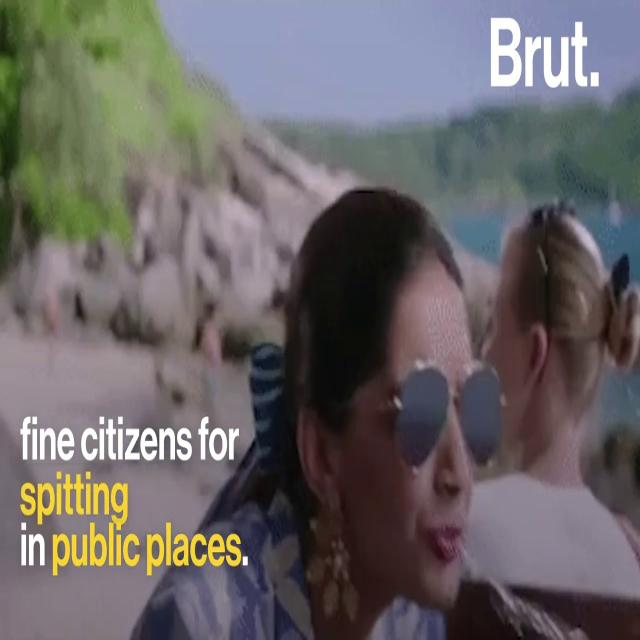spit: (411, 455, 616, 640)
